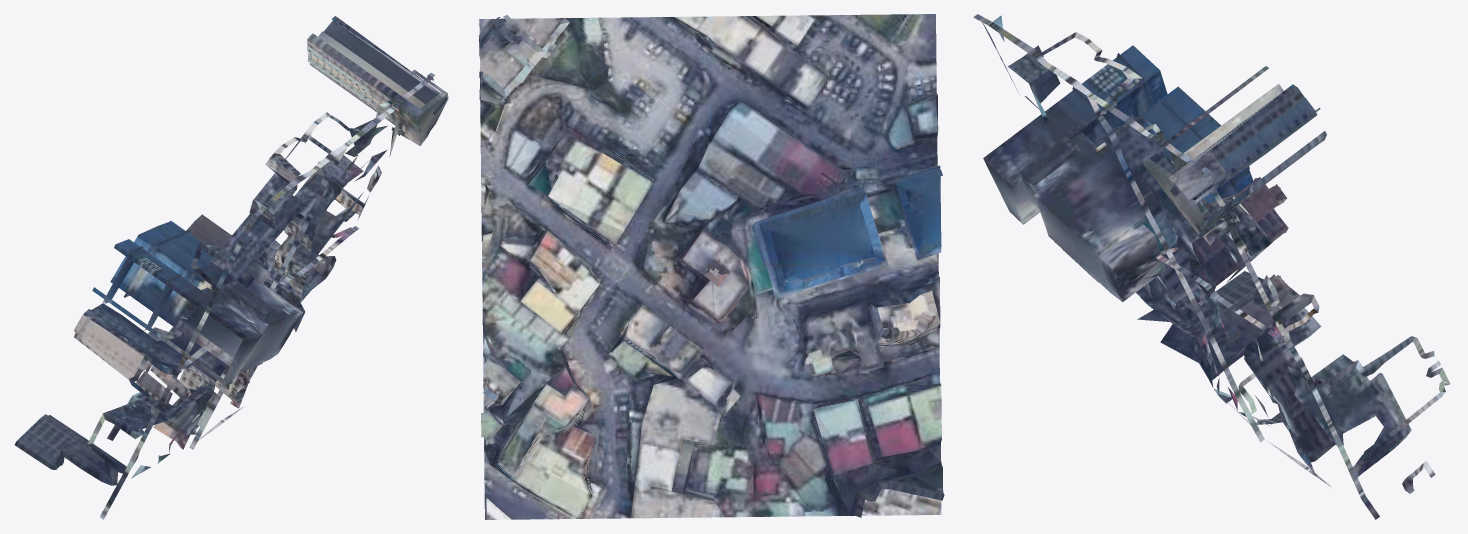
3 renders of one model, left to right at view 1: azimuth 30°, elevation 25°; view 2: azimuth 150°, elevation 25°; view 3: azimuth 270°, elevation 25°, orthographic. The views are drawn at different scales.
Bounding box in the file's own units: 174 × 158 × 153.
Materials: 2 (2 with a texture image).
